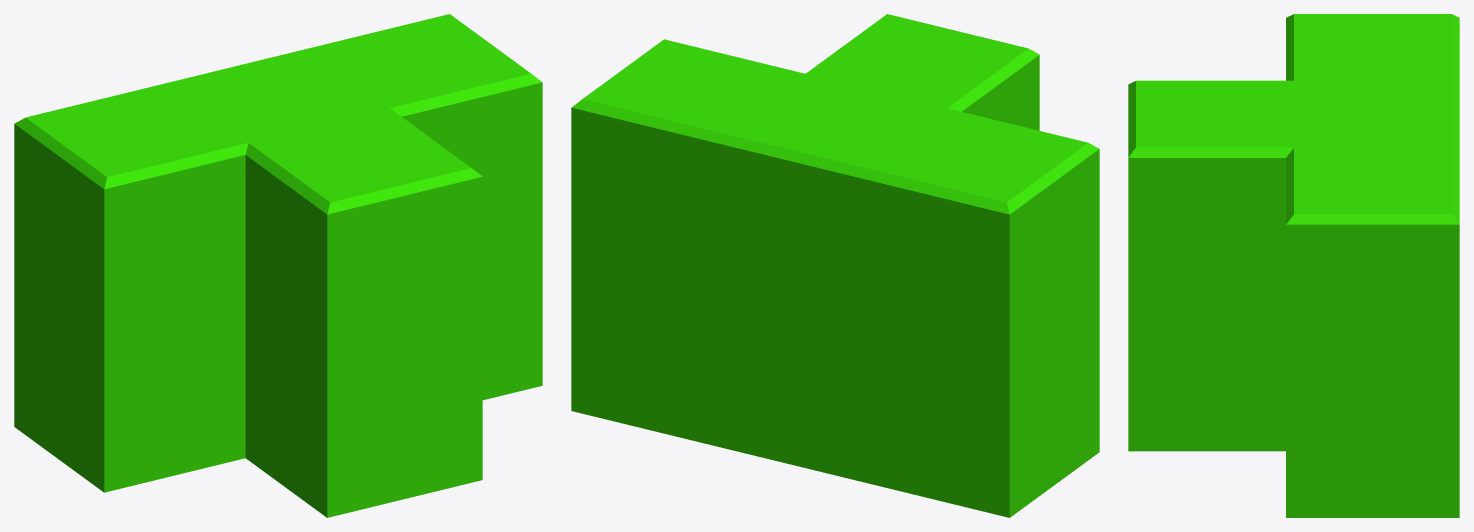
Rendered from basic_T_2.fbx.
The picture shows the model from 3 angles, left to right: view 1: azimuth 30°, elevation 25°; view 2: azimuth 150°, elevation 25°; view 3: azimuth 270°, elevation 25°; orthographic projection. The views are drawn at different scales.
Visible parts, largest first — view 1: basic_T_2; view 2: basic_T_2; view 3: basic_T_2.
Boxes of the visible parts, box(x1,y1,x2,y2) form: basic_T_2: box(14, 14, 542, 517); basic_T_2: box(571, 14, 1099, 517); basic_T_2: box(1128, 14, 1459, 517).
Size of the model in its own units: 310 by 210 by 210.
